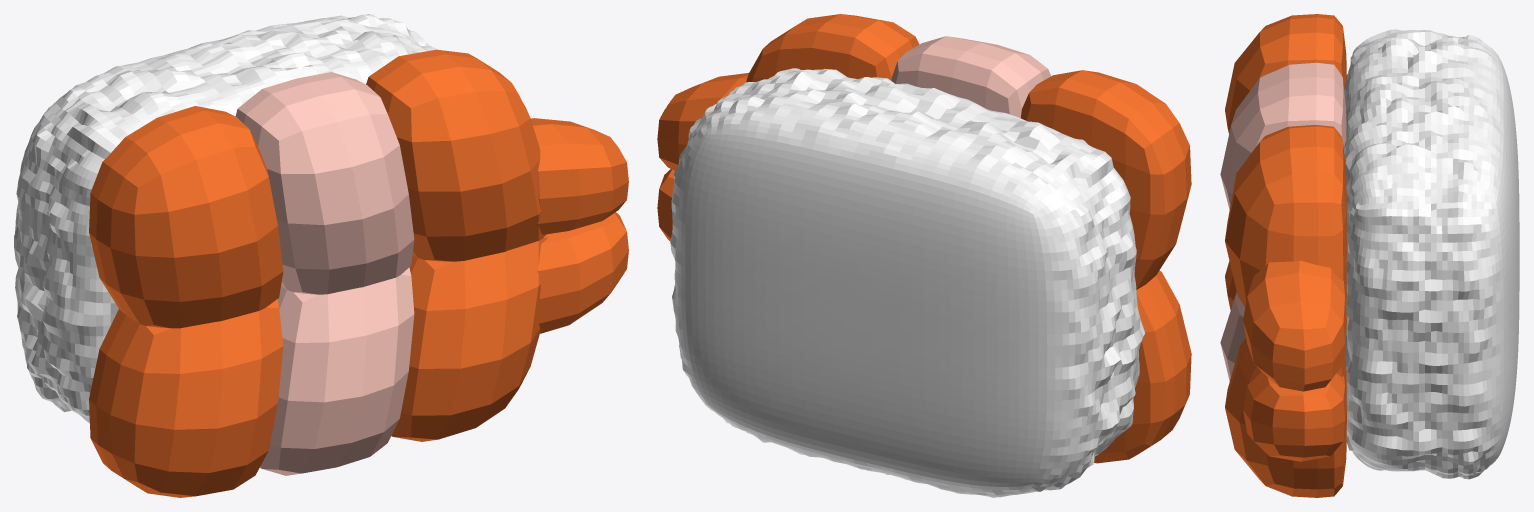
Rendered from sushi_shrimp.glb.
The picture shows the model from 3 angles, left to right: view 1: azimuth 30°, elevation 25°; view 2: azimuth 150°, elevation 25°; view 3: azimuth 270°, elevation 25°; orthographic projection. The views are drawn at different scales.
Parts seen in each view (by area): view 1: Plane.180, Plane.001; view 2: Plane.001, Plane.180; view 3: Plane.001, Plane.180.
Boxes of the visible parts, x1,y1,x2,y2 form: Plane.180: (89,49,628,497); Plane.001: (14,14,438,423); Plane.001: (670,68,1144,497); Plane.180: (657,14,1191,463); Plane.001: (1343,29,1519,479); Plane.180: (1220,14,1346,497).
Bounding box in the file's own units: 15.54 × 10.71 × 8.11.
